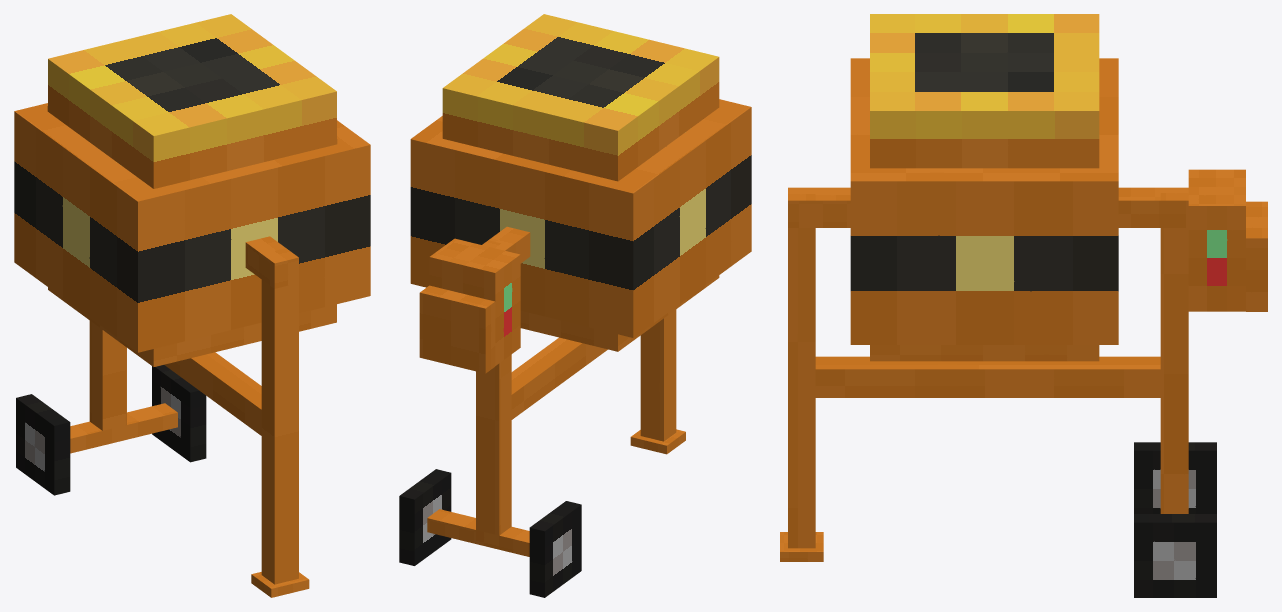
The model's file is BGN_CEMENT MIXER.fbx.
3 views of the same model, side by side, from view 1: azimuth 30°, elevation 25°; view 2: azimuth 150°, elevation 25°; view 3: azimuth 270°, elevation 25° (orthographic). The views are drawn at different scales.
Visible parts, largest first — view 1: BGN_CEMENT_MIXER; view 2: BGN_CEMENT_MIXER; view 3: BGN_CEMENT_MIXER.
Boxes of the visible parts, bbox=[...] form: BGN_CEMENT_MIXER: bbox=[14, 14, 370, 597]; BGN_CEMENT_MIXER: bbox=[399, 14, 751, 597]; BGN_CEMENT_MIXER: bbox=[780, 14, 1267, 597].
Size of the model in its own units: 66.69 by 124 by 112.
Materials: 1 (1 with a texture image).
